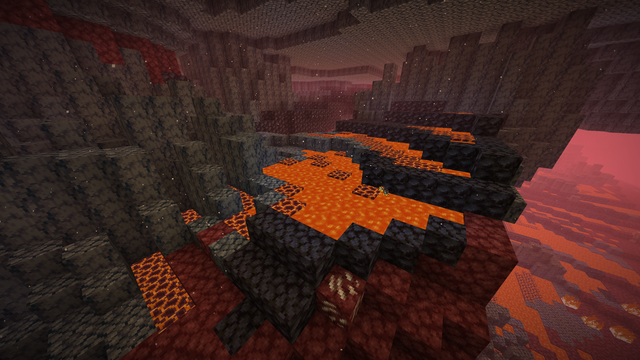quartz: (319, 266, 365, 326)
